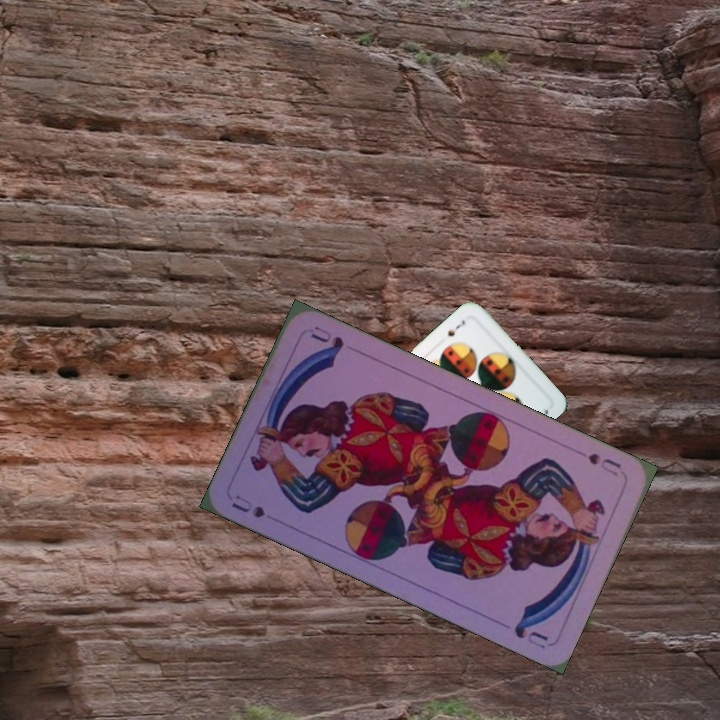S7: (443, 316, 468, 339)
SU: (227, 491, 268, 521), (583, 449, 624, 479)
